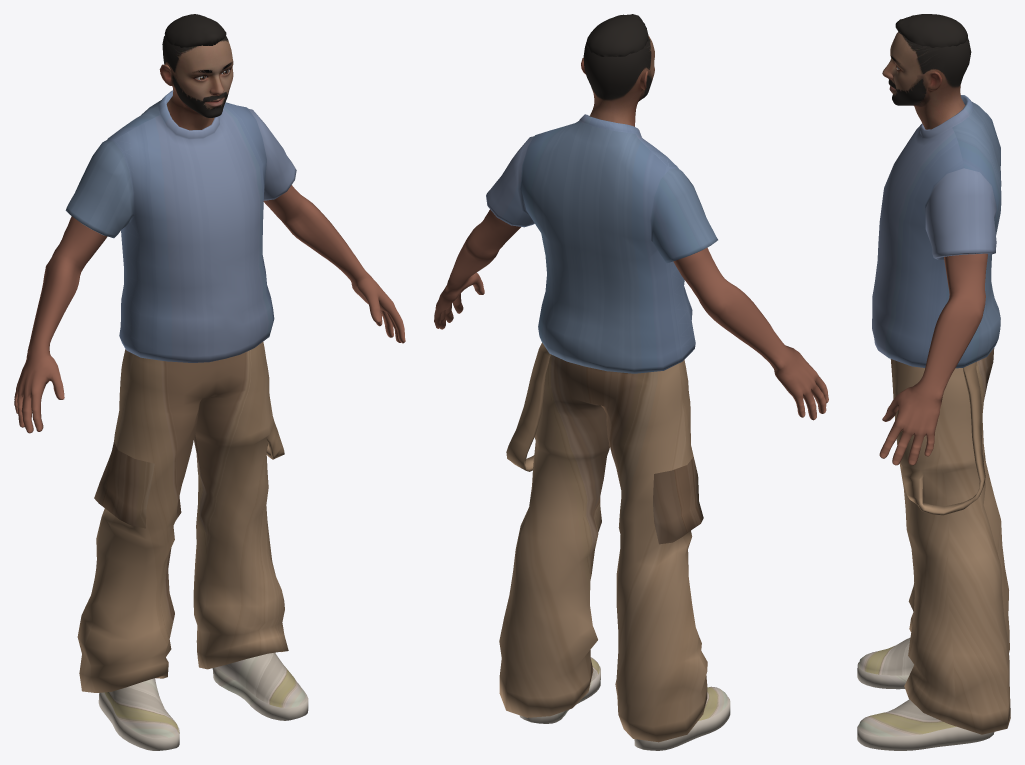
Rendered from character.fbx.
The picture shows the model from 3 angles, left to right: view 1: azimuth 30°, elevation 25°; view 2: azimuth 150°, elevation 25°; view 3: azimuth 270°, elevation 25°; orthographic projection.
Parts seen in each view (by area): view 1: Wolf3D_Outfit_Bottom, Wolf3D_Outfit_Top, Wolf3D_Body, Wolf3D_Outfit_Footwear, Wolf3D_Head, Wolf3D_Hair; view 2: Wolf3D_Outfit_Bottom, Wolf3D_Outfit_Top, Wolf3D_Body, Wolf3D_Head, Wolf3D_Outfit_Footwear, Wolf3D_Hair; view 3: Wolf3D_Outfit_Bottom, Wolf3D_Outfit_Top, Wolf3D_Body, Wolf3D_Outfit_Footwear, Wolf3D_Head, Wolf3D_Hair.
Part boxes in pixels (bbox=[...]): Wolf3D_Outfit_Bottom: bbox=[77, 342, 288, 692]; Wolf3D_Outfit_Top: bbox=[65, 90, 296, 362]; Wolf3D_Body: bbox=[14, 185, 405, 433]; Wolf3D_Outfit_Footwear: bbox=[98, 652, 308, 750]; Wolf3D_Head: bbox=[159, 35, 233, 130]; Wolf3D_Hair: bbox=[164, 14, 226, 47]; Wolf3D_Outfit_Bottom: bbox=[499, 342, 707, 742]; Wolf3D_Outfit_Top: bbox=[486, 114, 717, 373]; Wolf3D_Body: bbox=[434, 209, 828, 420]; Wolf3D_Head: bbox=[581, 35, 654, 126]; Wolf3D_Outfit_Footwear: bbox=[519, 657, 730, 750]; Wolf3D_Hair: bbox=[586, 14, 648, 56]; Wolf3D_Outfit_Bottom: bbox=[890, 348, 1010, 734]; Wolf3D_Outfit_Top: bbox=[872, 95, 1001, 368]; Wolf3D_Body: bbox=[879, 253, 987, 465]; Wolf3D_Outfit_Footwear: bbox=[857, 638, 994, 750]; Wolf3D_Head: bbox=[882, 32, 971, 129]; Wolf3D_Hair: bbox=[895, 14, 967, 47].
Size of the model in its own units: 1.06 by 1.85 by 0.3715.
8 materials, 8 textured.
